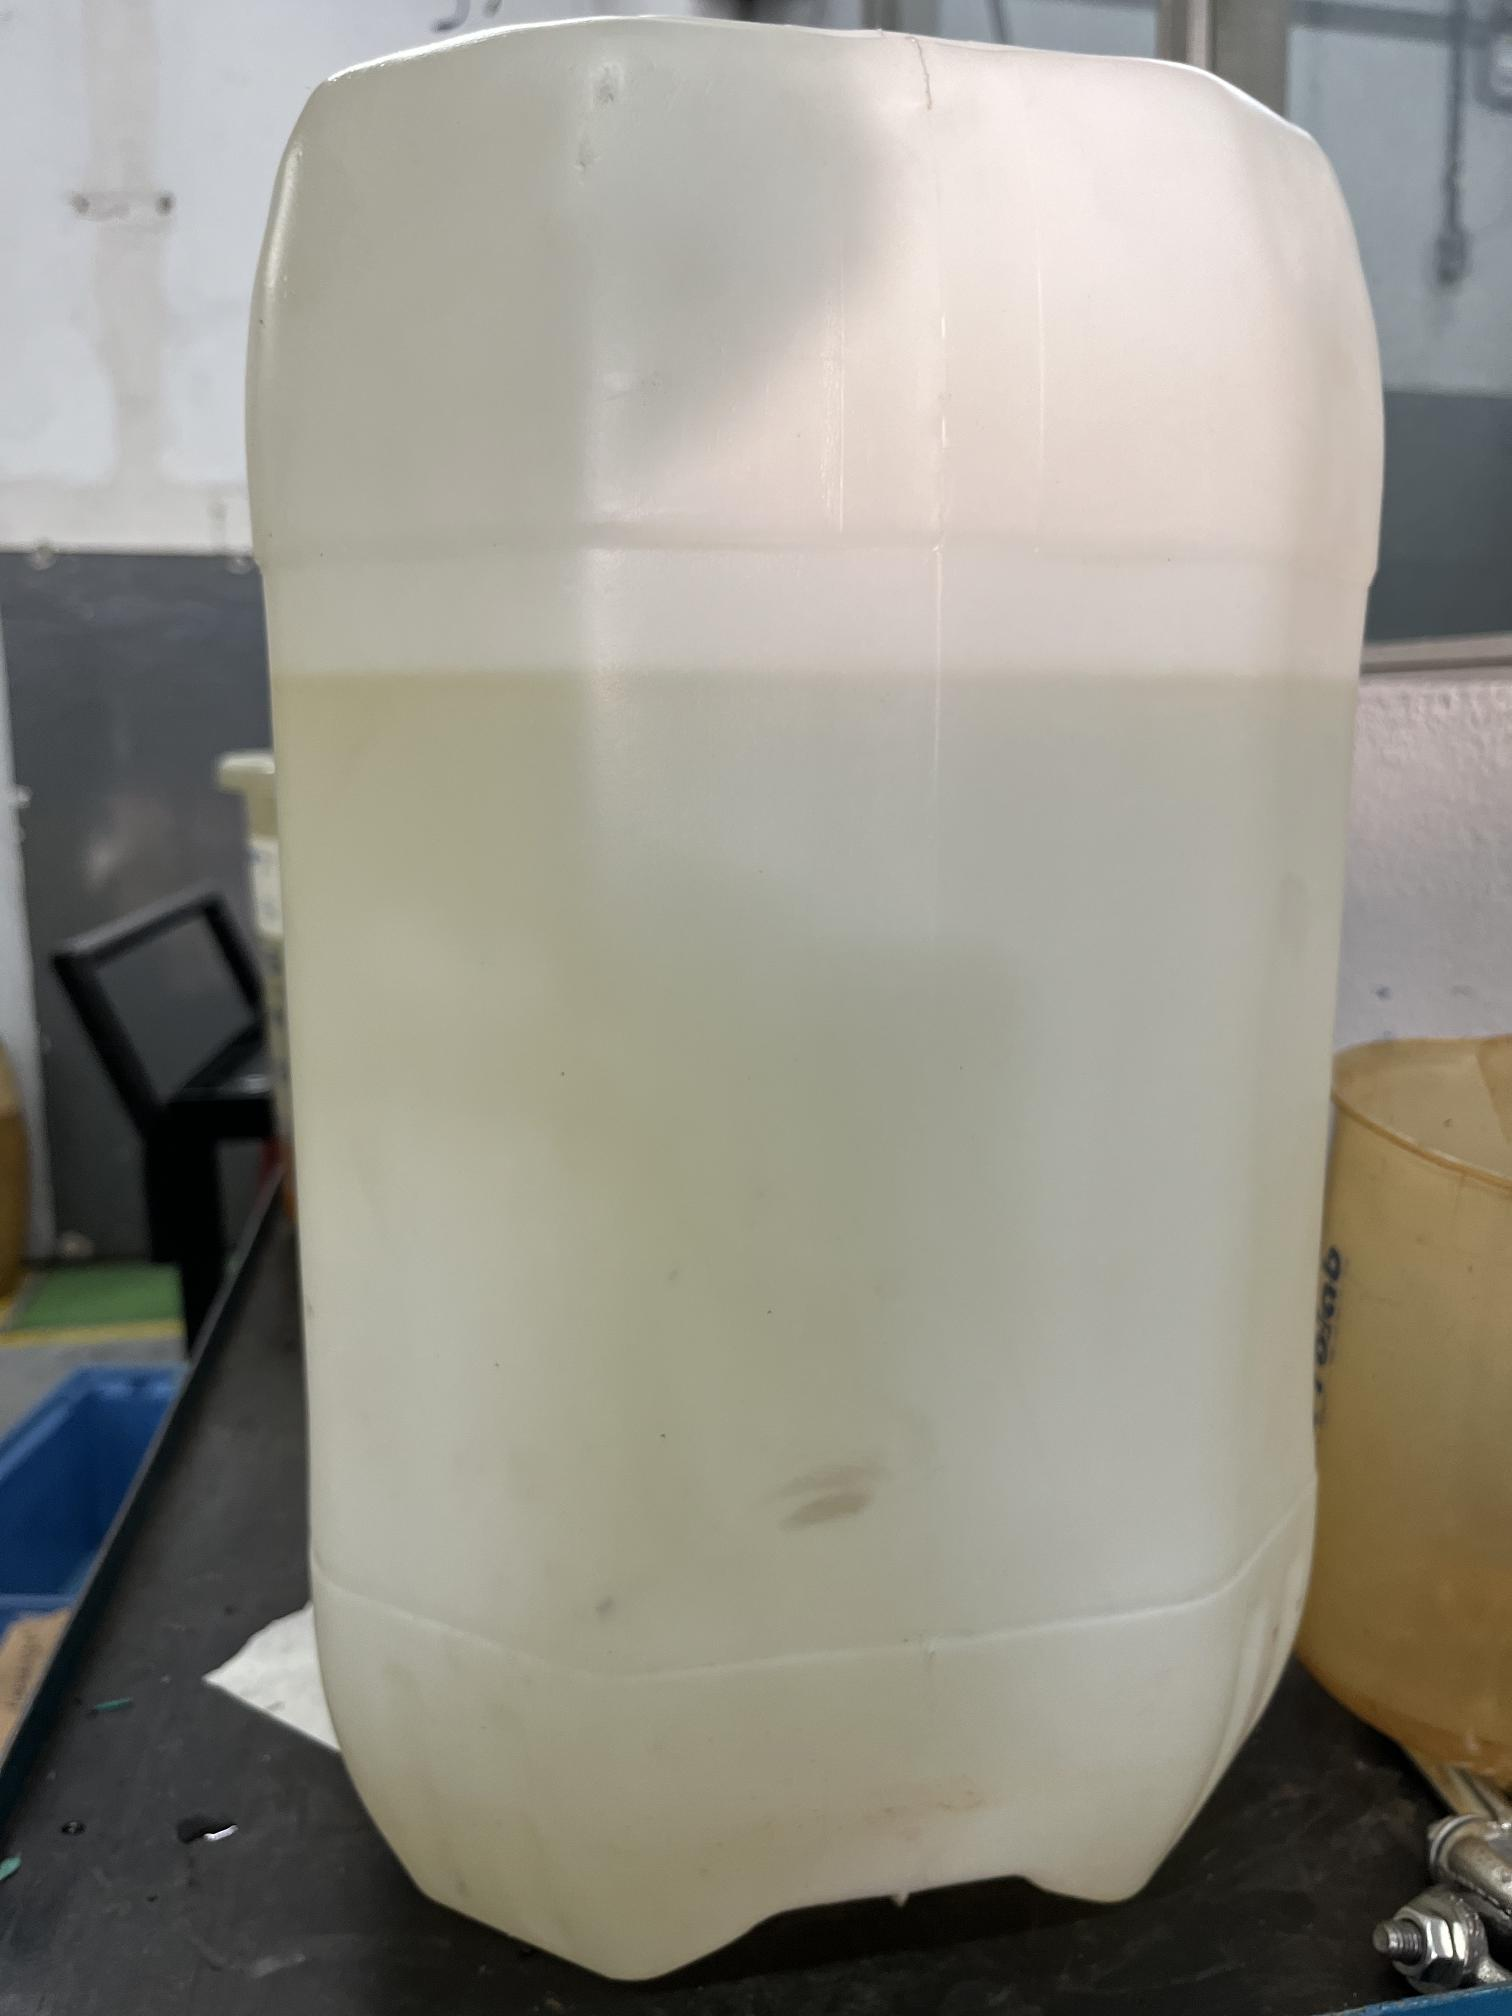Galao: (205, 79, 1364, 1910)
